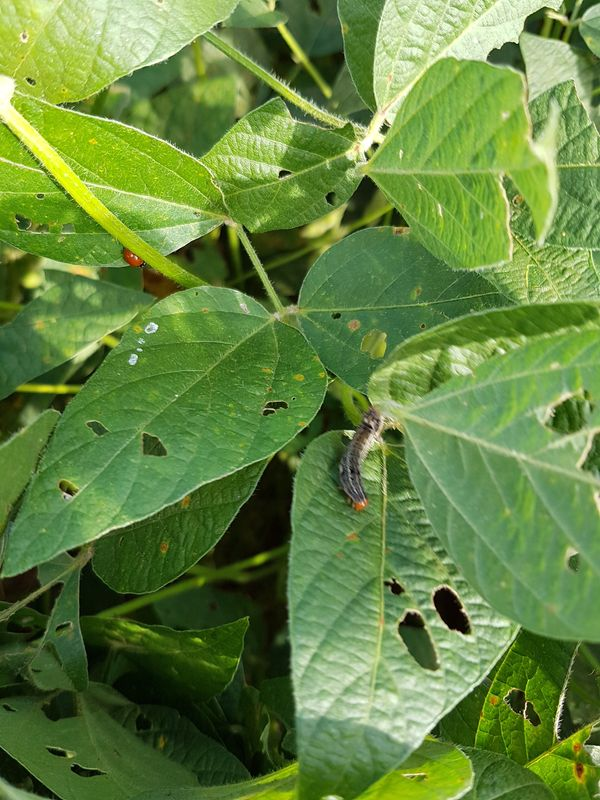Coccinellidae: (114, 235, 149, 276)
Spodoptera_albula: (323, 397, 410, 517)
